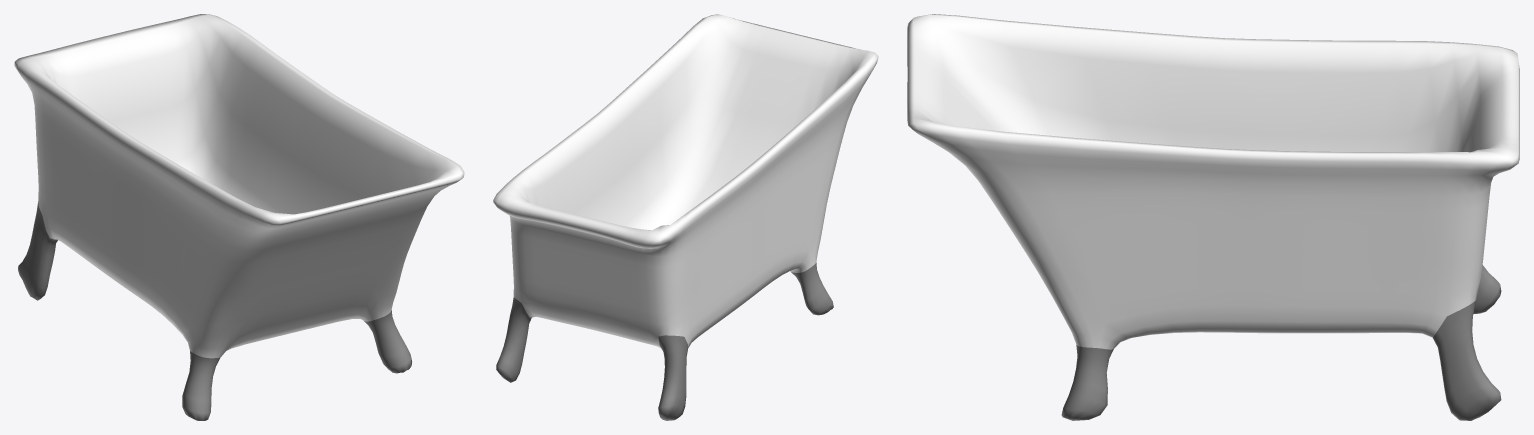
Rendered from Bathtub.fbx.
3 renders of one model, left to right at view 1: azimuth 30°, elevation 25°; view 2: azimuth 150°, elevation 25°; view 3: azimuth 270°, elevation 25°, orthographic. The views are drawn at different scales.
Visible parts, largest first — view 1: tub; view 2: tub; view 3: tub.
Boxes of the visible parts, <box> form: tub: <box>14,14,464,420</box>; tub: <box>493,14,878,420</box>; tub: <box>907,14,1519,420</box>.
Bounding box in the file's own units: 231 × 252 × 469.
